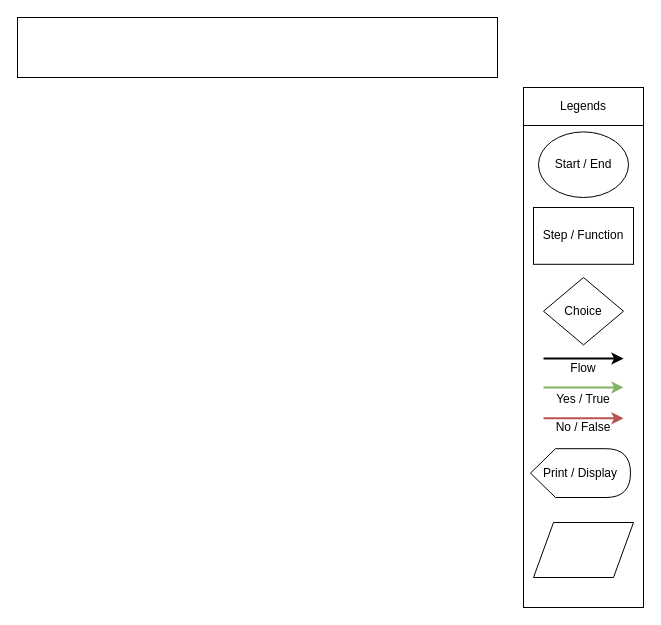
The diagram is 661 pixels wide and 625 high, and some of its shapes have lost their labels. The shapes that lost their labels are listed below. From the top down, each one's centre as x and y in pixels, then its label:
point 257,47: Project 2 "Name"
point 583,550: Player input
